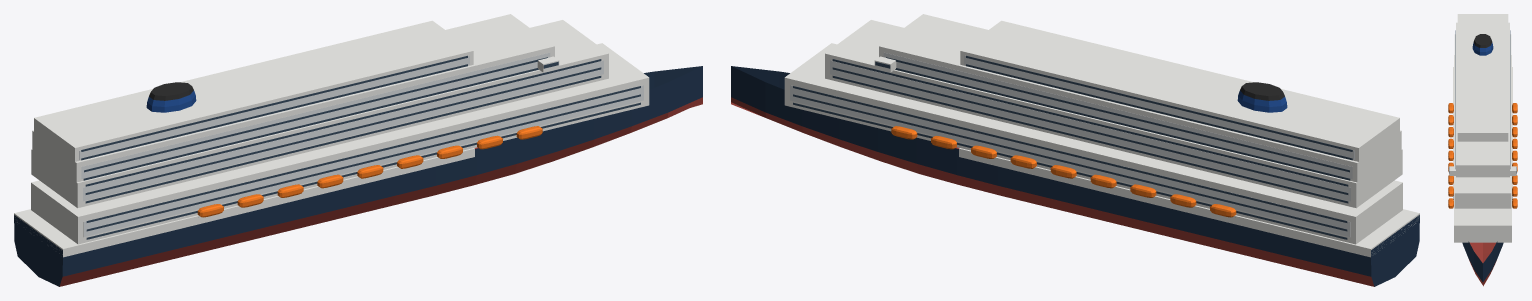
File: water.glb
The picture shows the model from 3 angles, left to right: view 1: azimuth 30°, elevation 25°; view 2: azimuth 150°, elevation 25°; view 3: azimuth 270°, elevation 25°; orthographic projection. The views are drawn at different scales.
Visible parts, largest first — view 1: CruiseShip; view 2: CruiseShip; view 3: CruiseShip.
Part boxes in pixels (box(x1,y1,x2,y2)): CruiseShip: box(14, 14, 702, 286); CruiseShip: box(731, 14, 1419, 286); CruiseShip: box(1448, 14, 1517, 286).
Bounding box in the file's own units: 250 × 55.9 × 37.
